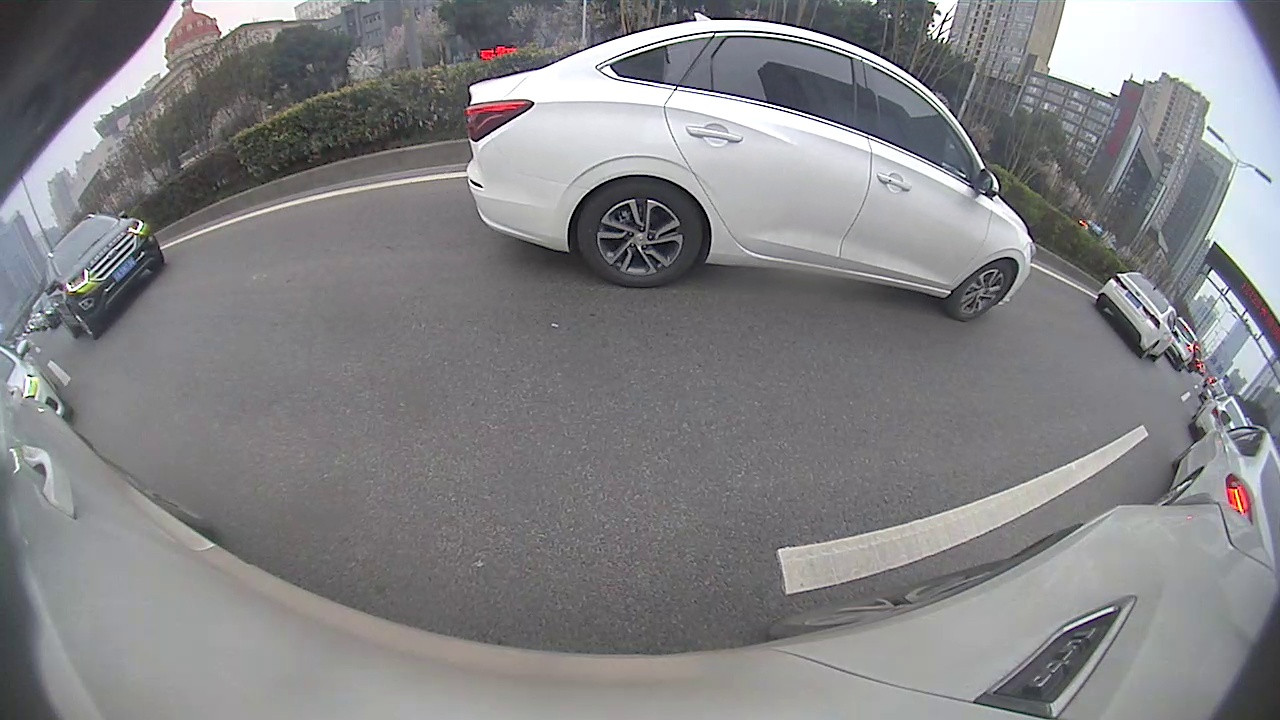car: (459, 11, 1034, 323), (1150, 410, 1278, 553), (42, 212, 165, 342), (1095, 270, 1179, 364)
front: (948, 259, 1016, 324), (68, 303, 99, 341)
rear: (575, 179, 707, 291)
